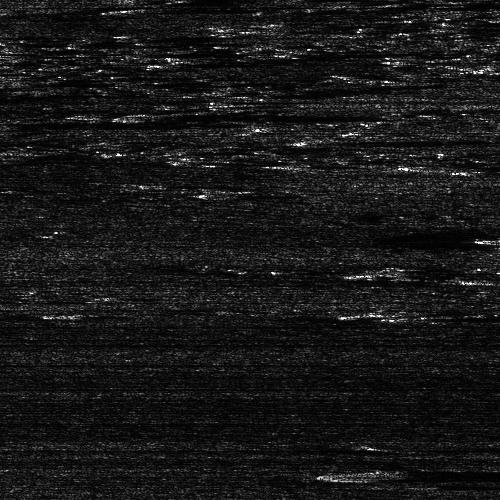rock: (363, 159, 500, 174), (308, 465, 401, 478), (351, 310, 456, 321), (69, 111, 174, 120), (264, 136, 369, 143), (448, 273, 500, 282), (0, 119, 27, 130), (458, 236, 500, 243), (106, 7, 159, 12), (470, 15, 500, 22)
shadow: (355, 465, 500, 478), (122, 111, 324, 120), (0, 119, 154, 130), (317, 136, 493, 143), (404, 310, 493, 321), (436, 159, 500, 174), (133, 7, 260, 12), (485, 273, 500, 282)
